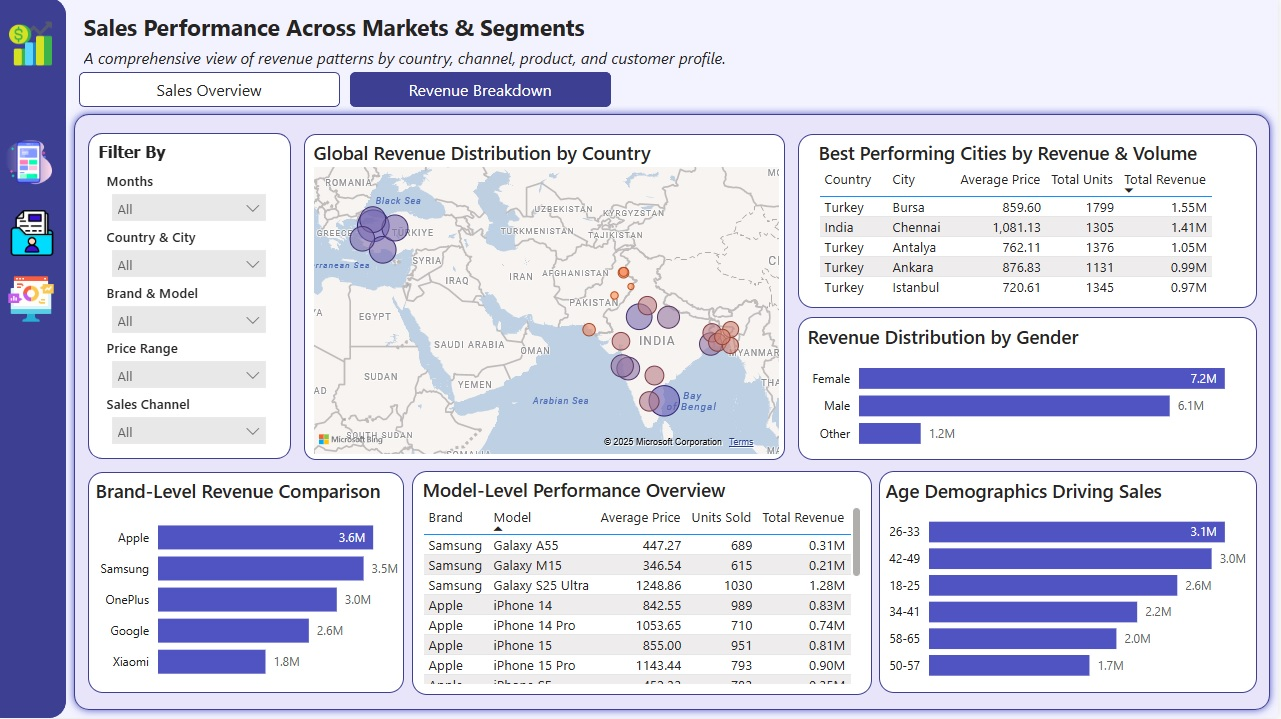

Layout of this report page (visuals, bound fields, positions):
{"tool":"powerbi","page":{"name":"Revenue","canvas":[1280,720],"ordinal":2},"visuals":[{"type":"shape","box":[67.5,107.5,1212.5,612.5],"z":0},{"type":"shape","box":[0,0,67.9,719.8],"z":1000},{"type":"textbox","title":" Sales Performance Across Markets & Segments","box":[81.2,13.8,691.2,63.8],"z":2000},{"type":"map","title":"Global Revenue Distribution by Country","fields":{"Size":["Sum(Sales.Total_Revenue)"],"Category":["Location.Country","Location.City"]},"box":[305.6,135.6,481.1,326],"z":4000},{"type":"shape","box":[90,135,202.5,326.2],"z":7000,"group":"g1"},{"type":"tableEx","title":"Best Performing Cities by Revenue & Volume","fields":{"Values":["Location.Country","Sales.City","Sales.Average_price","Sum(Sales.Units_Sold)","Sum(Sales.Total_Revenue)"]},"box":[800,135.6,458.9,174.4],"z":9000},{"type":"tableEx","title":"Model-Level Performance Overview","fields":{"Values":["Sales.Brand","Sales.Mobile_Model","Avg(Sales.Price_per_item)","Sum(Sales.Units_Sold)","Sum(Sales.Total_Revenue)"]},"box":[413.8,473.3,460,223.3],"z":10000},{"type":"clusteredBarChart","title":"Revenue Distribution by Gender","fields":{"Category":["Sales.Customer_Gender"],"Y":["Sum(Sales.Total_Revenue)"]},"box":[800,318.9,458.9,143.3],"z":11000},{"type":"clusteredBarChart","title":"Brand-Level Revenue Comparison","fields":{"Category":["Sales.Brand"],"Y":["Sum(Sales.Total_Revenue)"]},"box":[90,473.8,316.2,221.2],"z":12000},{"type":"clusteredBarChart","title":"Age Demographics Driving Sales","fields":{"Category":["Sales.Customer_Age_Group"],"Y":["Sum(Sales.Total_Revenue)"]},"box":[881.2,473.3,377.5,221.2],"z":13000},{"type":"bookmarkNavigator","box":[81.1,74,532.2,35],"z":14000},{"type":"image","box":[0,136,61,57],"z":15000},{"type":"slicer","title":"Months","fields":{"Values":["Sales.Monthname"]},"box":[104.4,174.4,173.3,55.6],"z":16000,"group":"g1"},{"type":"image","box":[4,206.7,61,56],"z":16000},{"type":"image","box":[2.2,14,61,63.3],"z":17000},{"type":"slicer","title":"Country & City","fields":{"Values":["Location.Country","Sales.City"]},"box":[104.4,230,173.3,55.6],"z":17000,"group":"g1"},{"type":"group","id":"g1","title":"Group 2","box":[90,135,202.5,326.2],"z":18000},{"type":"slicer","title":"Brand & Model","fields":{"Values":["Sales.Brand","Sales.Mobile_Model"]},"box":[104.4,285.6,173.3,55.6],"z":18000,"group":"g1"},{"type":"image","box":[2.5,271,61.2,60],"z":18001},{"type":"slicer","title":"Price Range","fields":{"Values":["Sales.Price Group"]},"box":[104.4,341.1,173.3,55.6],"z":19000,"group":"g1"},{"type":"slicer","title":"Sales Channel","fields":{"Values":["Sales.Sales_Channel"]},"box":[104.4,396.7,173.3,55.6],"z":20000,"group":"g1"},{"type":"textbox","box":[100,143.3,115.6,25.6],"z":21000,"group":"g1"}]}

Visuals, with their boxes on the page's 1280x720 design canvas (x1, y1, x2, y2). These are canvas units, not pixel positions in the 1281x719 screenshot, which may show the page scaled, cropped or inside an application window:
shape: box=[68, 108, 1280, 720]
shape: box=[0, 0, 68, 720]
" Sales Performance Across Markets & Segments" textbox: box=[81, 14, 772, 78]
"Global Revenue Distribution by Country" map: box=[306, 136, 787, 462]
shape: box=[90, 135, 292, 461]
"Best Performing Cities by Revenue & Volume" tableEx: box=[800, 136, 1259, 310]
"Model-Level Performance Overview" tableEx: box=[414, 473, 874, 697]
"Revenue Distribution by Gender" clusteredBarChart: box=[800, 319, 1259, 462]
"Brand-Level Revenue Comparison" clusteredBarChart: box=[90, 474, 406, 695]
"Age Demographics Driving Sales" clusteredBarChart: box=[881, 473, 1259, 694]
bookmarkNavigator: box=[81, 74, 613, 109]
image: box=[0, 136, 61, 193]
"Months" slicer: box=[104, 174, 278, 230]
image: box=[4, 207, 65, 263]
image: box=[2, 14, 63, 77]
"Country & City" slicer: box=[104, 230, 278, 286]
"Group 2" group: box=[90, 135, 292, 461]
"Brand & Model" slicer: box=[104, 286, 278, 341]
image: box=[2, 271, 64, 331]
"Price Range" slicer: box=[104, 341, 278, 397]
"Sales Channel" slicer: box=[104, 397, 278, 452]
textbox: box=[100, 143, 216, 169]
